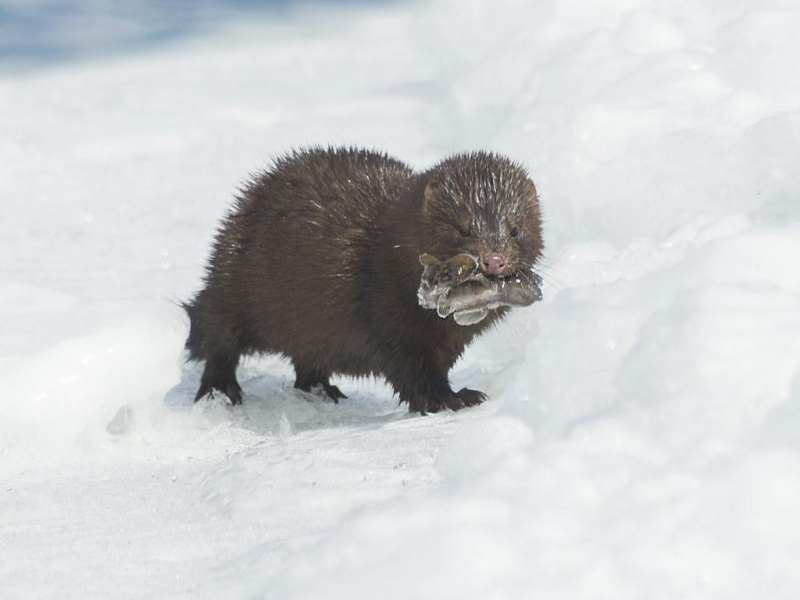minkish: (176, 141, 548, 418)
